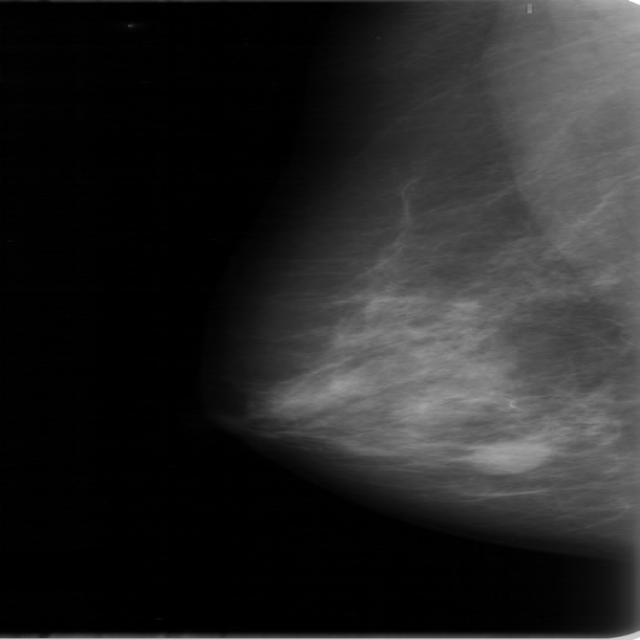tumour: (457, 438, 547, 475)
